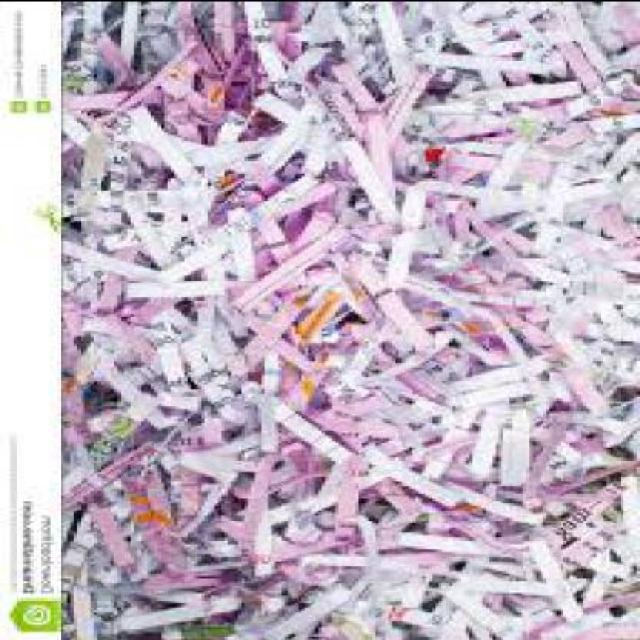PAPER: (66, 0, 640, 638)
